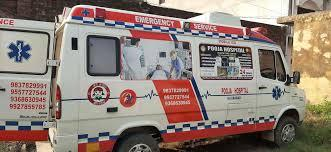Emergency-Vehicles: (56, 6, 295, 148)
